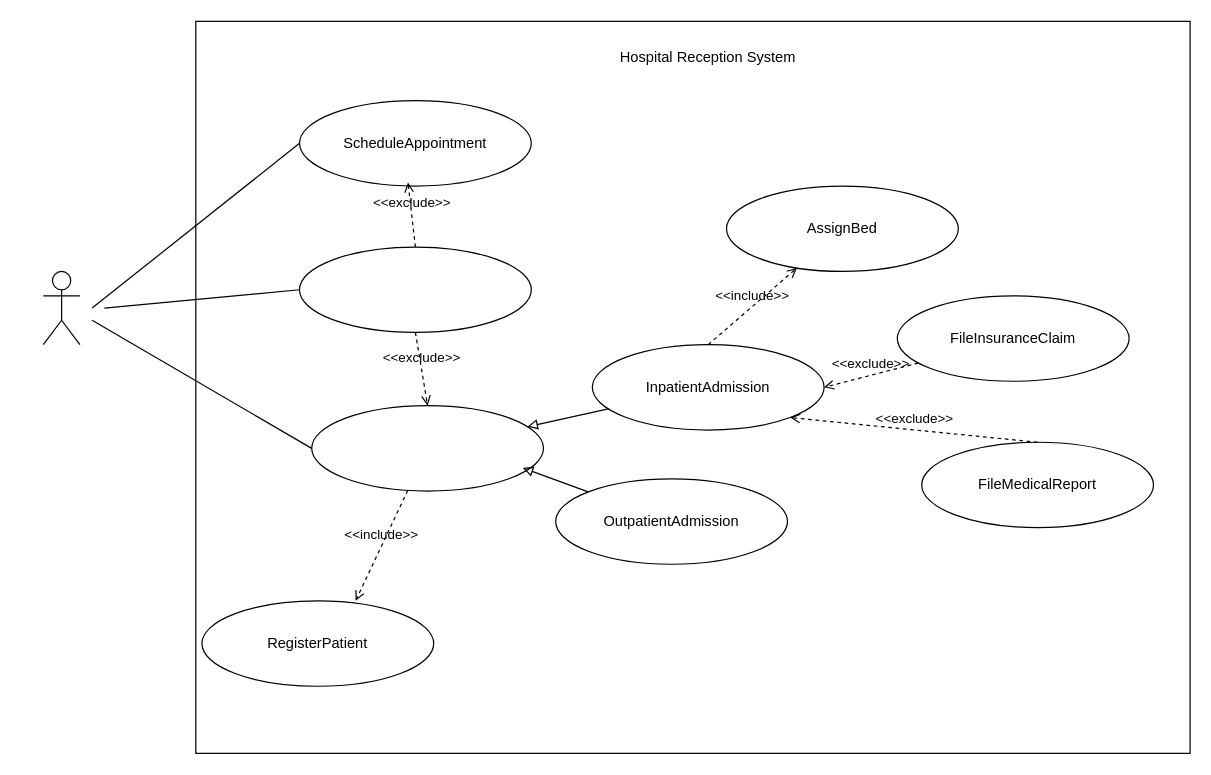
The diagram is 1211 pixels wide and 775 high, and some of its shapes have lost their labels. The centre of each missing label's shape, as x and y in pixels:
CollectInfo: point 414,289
Receptionist: point 61,307
ScheduleAdmission: point 427,447
